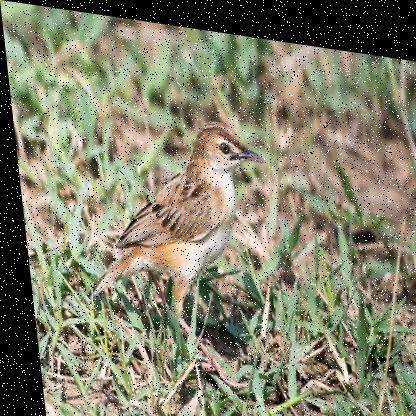Burung: (58, 96, 277, 327)
